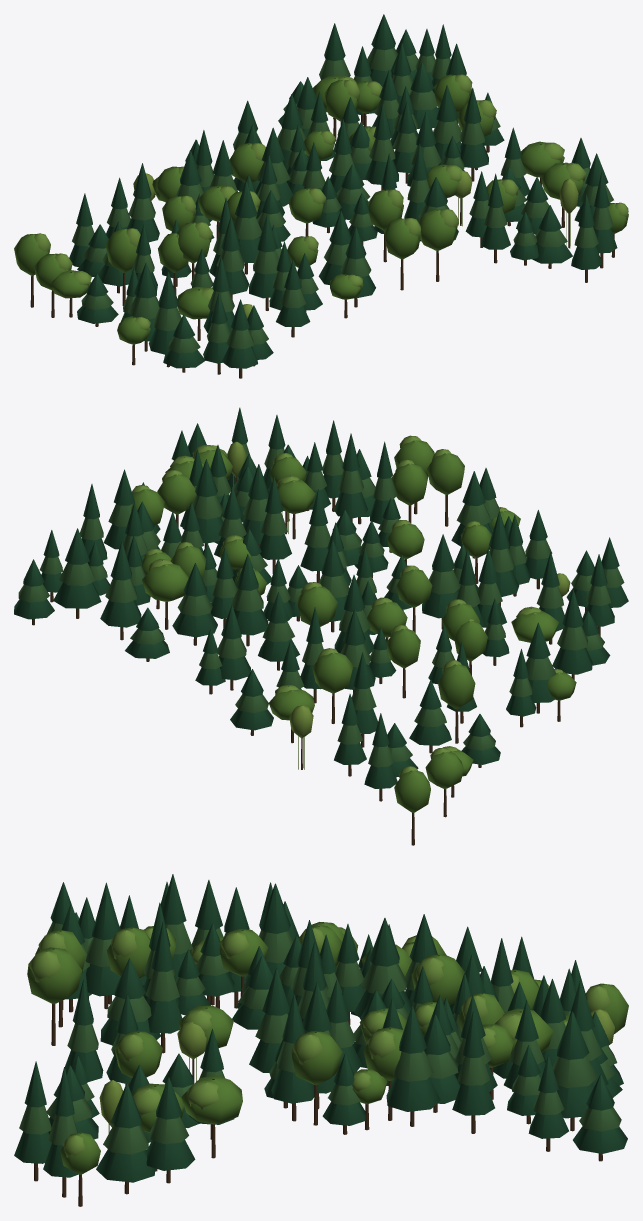
File: forest_1_7.dae
3 views of the same model, one above another, from view 1: azimuth 30°, elevation 25°; view 2: azimuth 150°, elevation 25°; view 3: azimuth 270°, elevation 25° (orthographic). The views are drawn at different scales.
Visible parts, largest first — view 1: forest_1_7; view 2: forest_1_7; view 3: forest_1_7.
Part boxes in pixels (x1,y1,x2,y2): forest_1_7: (14, 14, 628, 378); forest_1_7: (14, 407, 628, 845); forest_1_7: (14, 874, 628, 1206).
Size of the model in its own units: 134 by 119 by 66.43.
